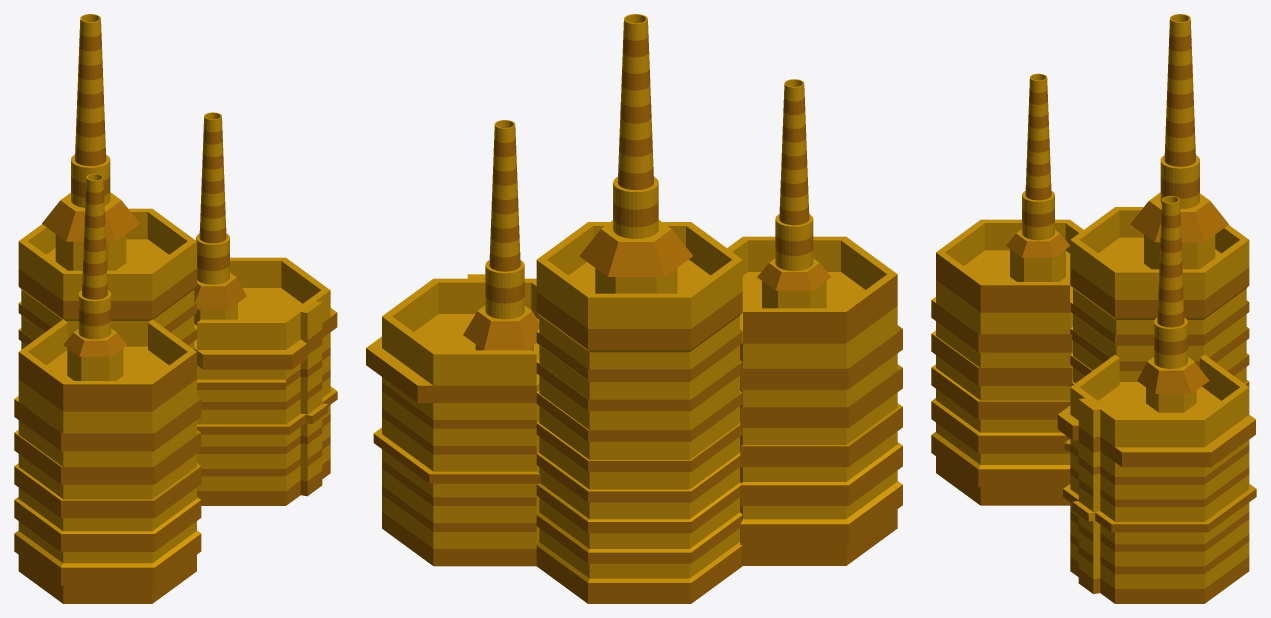
File: zavod.fbx
3 views of the same model, side by side, from view 1: azimuth 30°, elevation 25°; view 2: azimuth 150°, elevation 25°; view 3: azimuth 270°, elevation 25° (orthographic). The views are drawn at different scales.
Parts seen in each view (by area): view 1: Plane.001; view 2: Plane.001; view 3: Plane.001.
Boxes of the visible parts, x1,y1,x2,y2 form: Plane.001: (14, 14, 337, 603); Plane.001: (366, 14, 902, 603); Plane.001: (931, 14, 1256, 603).
Bounding box in the file's own units: 575 × 761 × 464.
